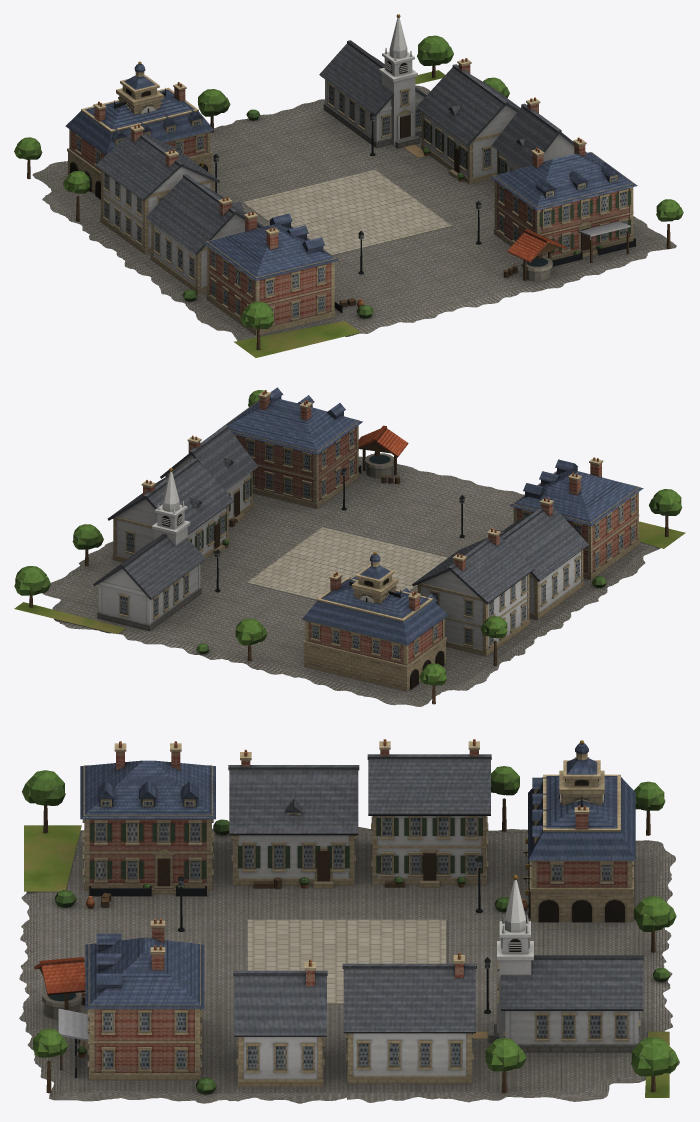
The model's file is gunpowder-town-small-a-colonies.glb.
3 views of the same model, one above another, from view 1: azimuth 30°, elevation 25°; view 2: azimuth 150°, elevation 25°; view 3: azimuth 270°, elevation 25° (orthographic). The views are drawn at different scales.
Parts seen in each view (by area): view 1: LOD0; view 2: LOD0; view 3: LOD0.
Boxes of the visible parts, x1,y1,x2,y2 form: LOD0: [14, 14, 683, 357]; LOD0: [14, 387, 685, 706]; LOD0: [19, 739, 679, 1103].
Size of what is drawn, in the model's own units: 4.02 by 1.1 by 4.06.
Materials: 3 (3 with a texture image).
